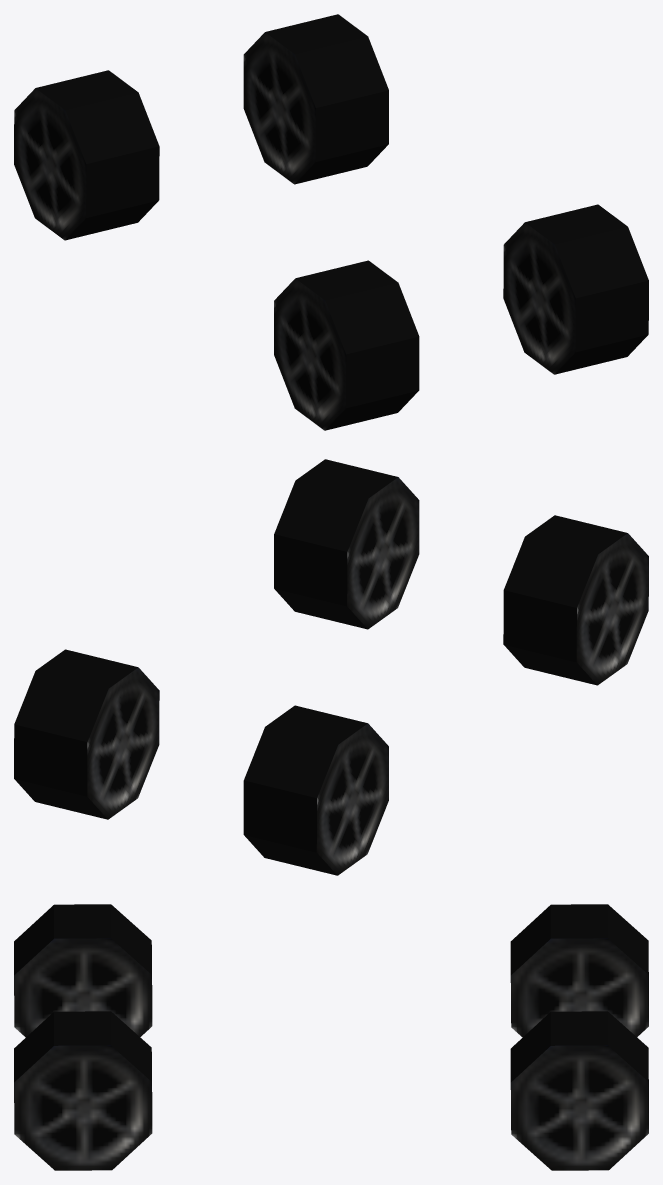
File: Wheels.fbx
3 renders of one model, top to bottom at view 1: azimuth 30°, elevation 25°; view 2: azimuth 150°, elevation 25°; view 3: azimuth 270°, elevation 25°, orthographic. The views are drawn at different scales.
Parts seen in each view (by area): view 1: Cylinder.001, Cylinder.002, Cylinder, Cylinder.003; view 2: Cylinder, Cylinder.001, Cylinder.002, Cylinder.003; view 3: Cylinder, Cylinder.001, Cylinder.003, Cylinder.002.
Part boxes in pixels (x1=…): Cylinder.001: x1=243, y1=14, x2=388, y2=184; Cylinder.002: x1=274, y1=260, x2=419, y2=430; Cylinder: x1=503, y1=204, x2=648, y2=374; Cylinder.003: x1=14, y1=70, x2=159, y2=240; Cylinder: x1=274, y1=459, x2=419, y2=629; Cylinder.001: x1=14, y1=649, x2=159, y2=819; Cylinder.002: x1=503, y1=515, x2=648, y2=685; Cylinder.003: x1=243, y1=705, x2=388, y2=875; Cylinder: x1=14, y1=1011, x2=152, y2=1170; Cylinder.001: x1=510, y1=1011, x2=648, y2=1170; Cylinder.003: x1=510, y1=904, x2=648, y2=1037; Cylinder.002: x1=14, y1=904, x2=152, y2=1037.
Size of the model in its own units: 459 by 190 by 871.
Materials: 1 (1 with a texture image).
